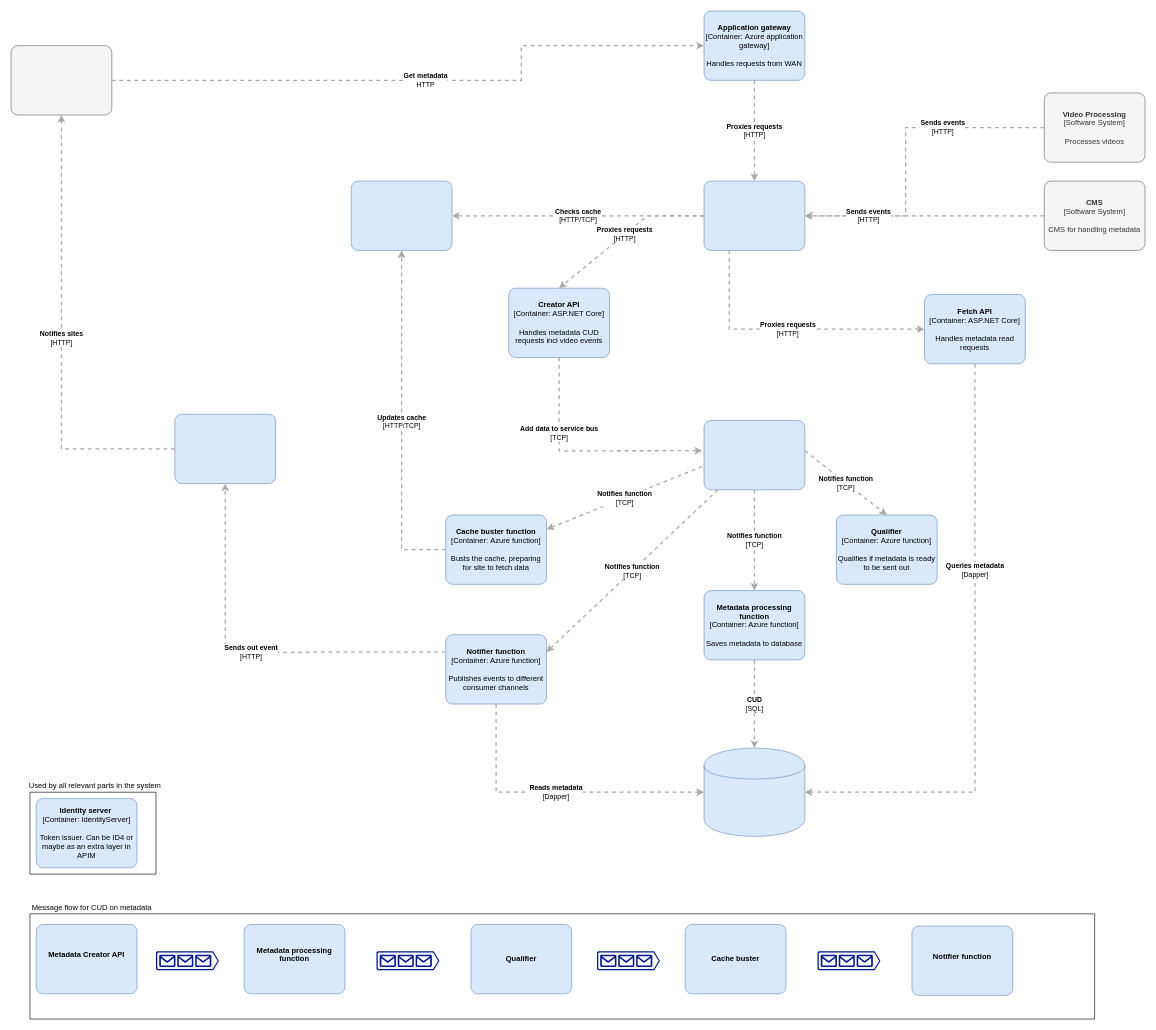
Image size: 1156x1030. Some labels were removed from this diagram. The shapes that lost their labels are listed below. From the top down, each one's centre as x and y in pixels, then its label:
(x=61, y=80): Site [Software System] Site that uses meta data
(x=401, y=215): Cache [Container: Redis ] Caches metadata requests
(x=754, y=215): API Management [Container: Azure API Management ] Description
(x=225, y=449): Event Grid [Container: Azure Event Grid ] Delivers event to sites
(x=754, y=455): Service bus [Container: Azure service bus ] Delivers event to processing unit
(x=754, y=791): Database [Container: Cosmos or MSSQL] Holds metadata
